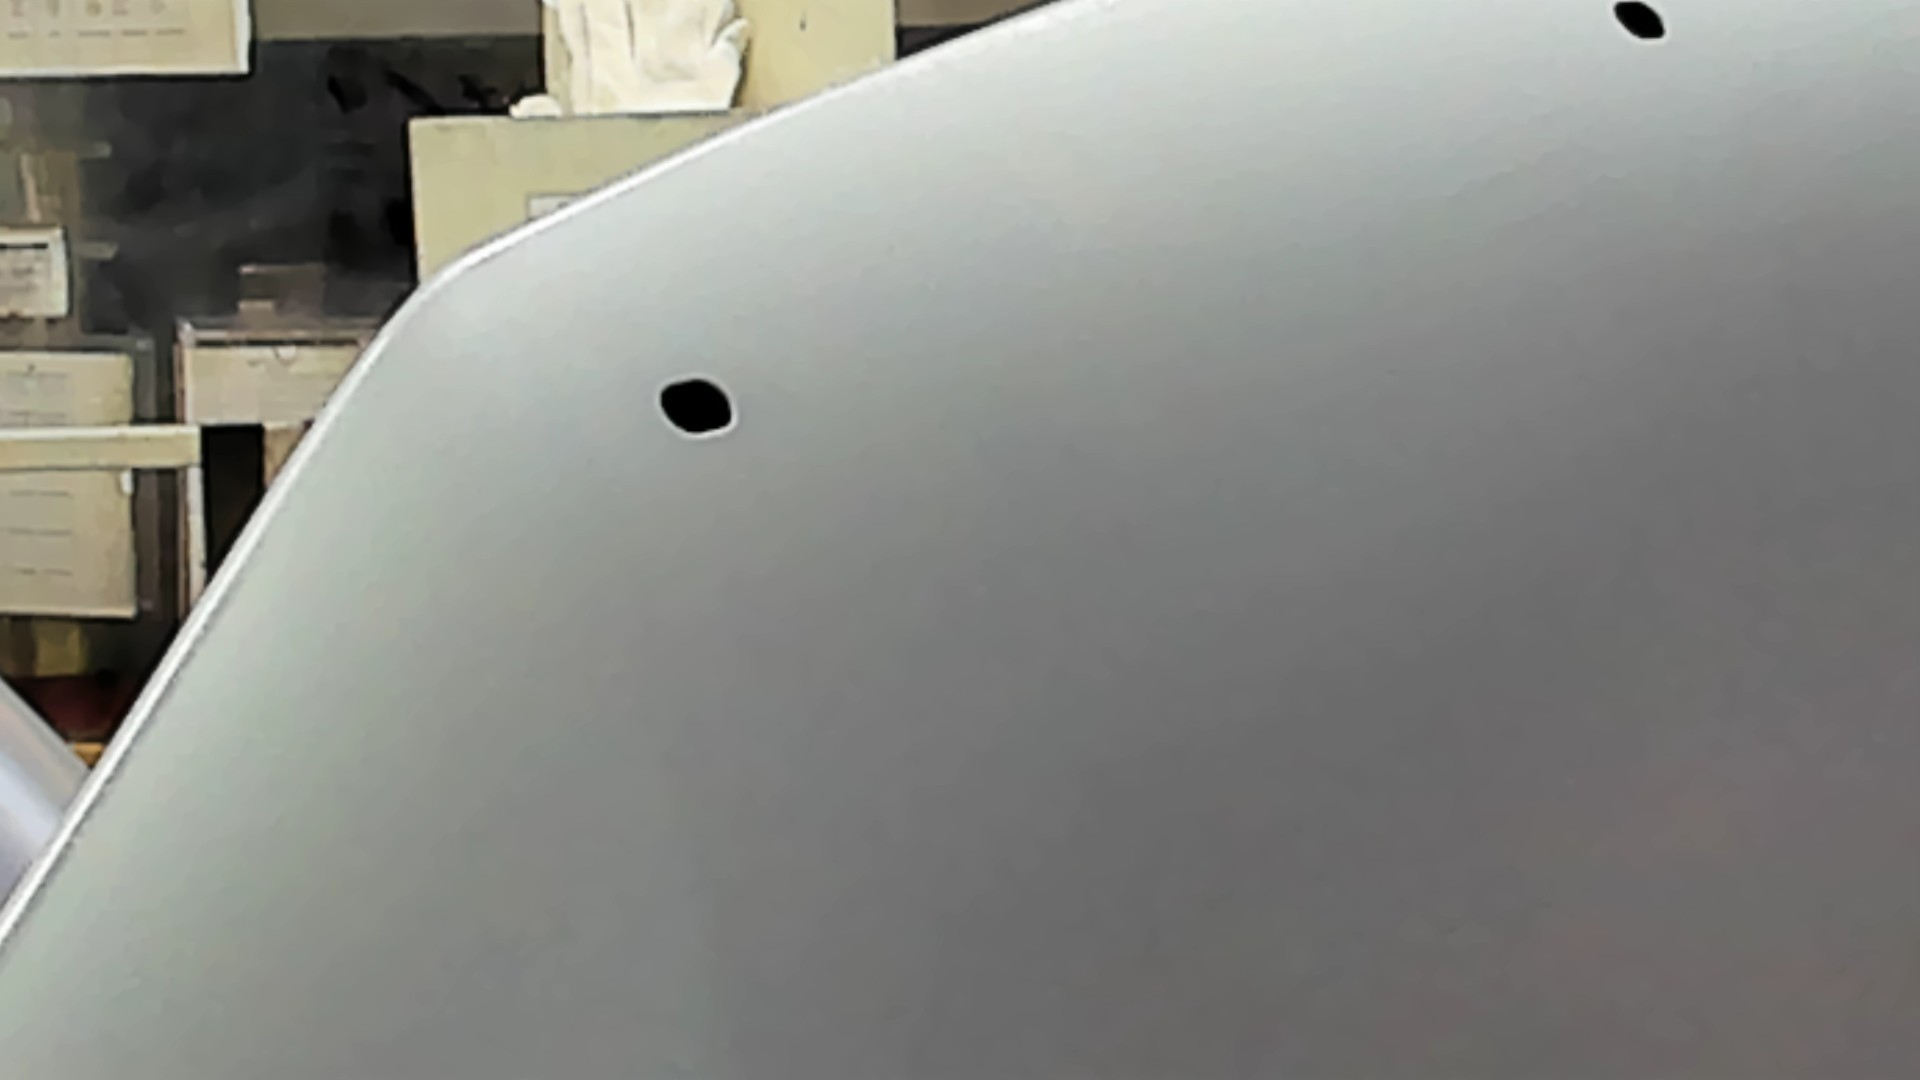amorfo: (654, 375, 736, 440), (1606, 1, 1673, 45)
